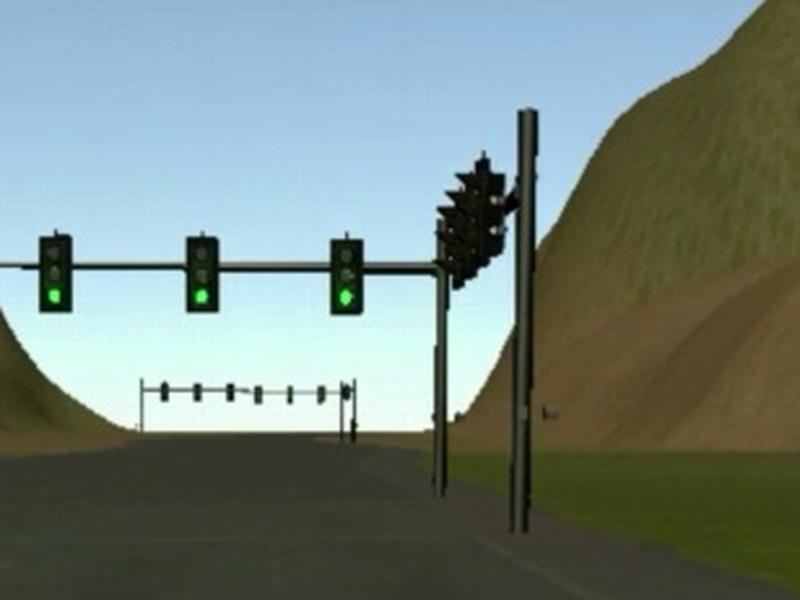Green: (38, 234, 72, 312), (185, 235, 218, 313), (330, 238, 363, 313)
